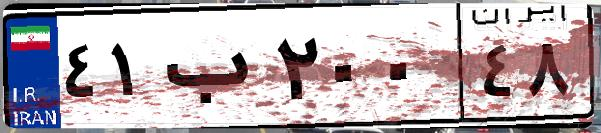0: (385, 28, 445, 110), (330, 28, 385, 110)
1: (110, 28, 158, 98)
2: (270, 28, 330, 110)
4: (57, 26, 110, 100), (475, 38, 525, 113)
8: (525, 38, 570, 115)
ب: (158, 20, 270, 120)
